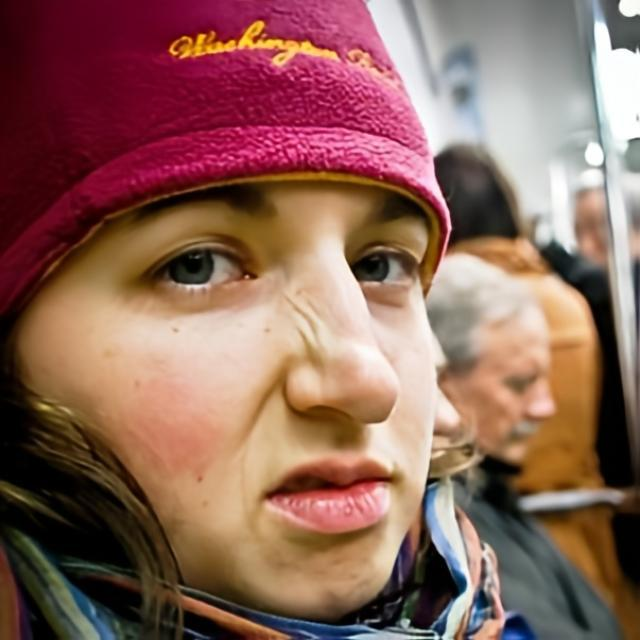disgust: (11, 178, 439, 621)
